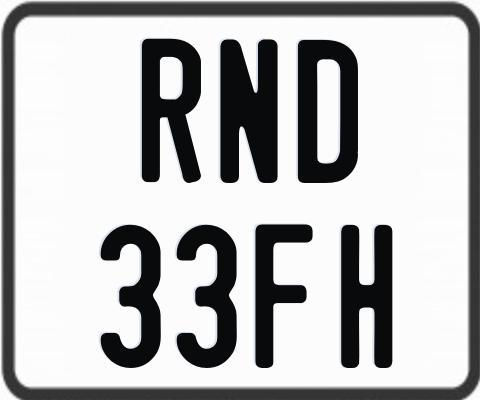3: (101, 222, 166, 365), (176, 224, 240, 367)
D: (295, 39, 355, 186)
F: (253, 223, 312, 372)
H: (341, 222, 395, 369)
N: (218, 36, 278, 182)
R: (140, 38, 205, 188)
